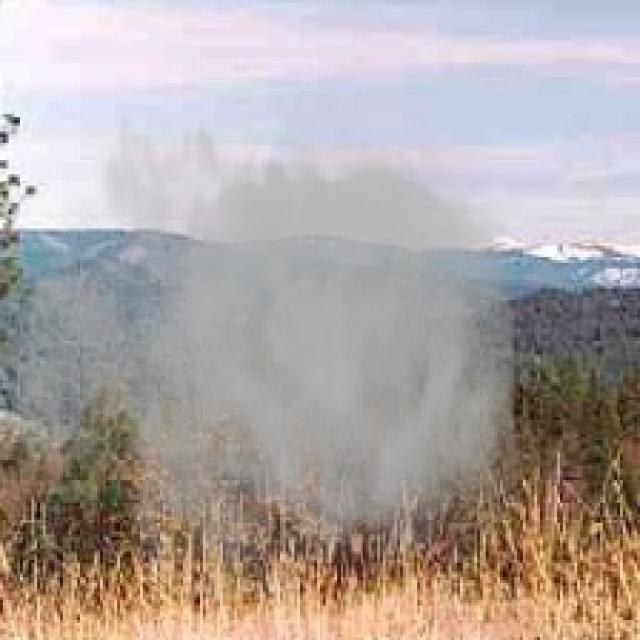Smoke: (17, 63, 546, 600)
